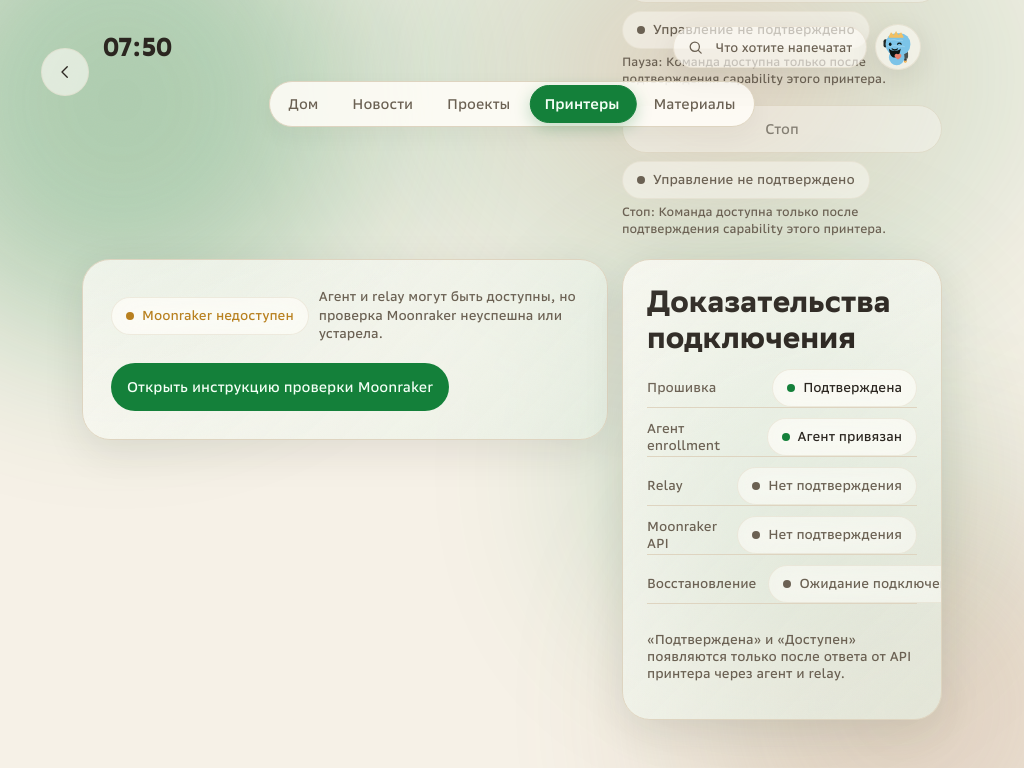
Scenario: MF-1665: матрица шести состояний подключения › moonraker-unavailable: показывает безопасный ожидаемый результат действия
(page scrolled)
What coordinates should you click on to do the following:
click the button "Открыть инструкцию проверки Moonraker"
I would click on:
 (280, 387)
Its box is [111,363,449,411].
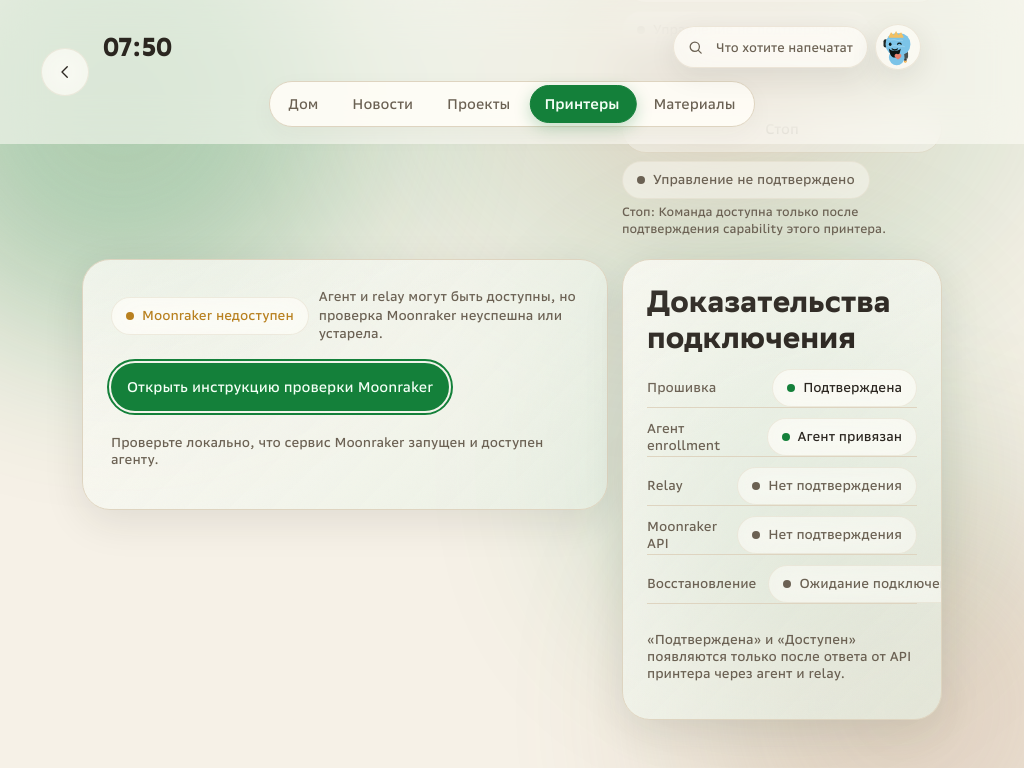
expect the text "Проверьте локально, что сервис Moonraker запущен и доступен агенту." is shown: met, box [111,434,579,468]
